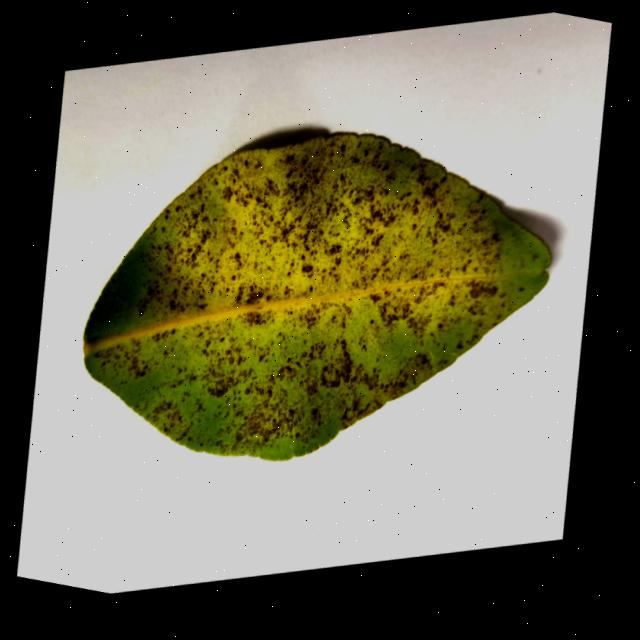melanose: (84, 134, 550, 459)
